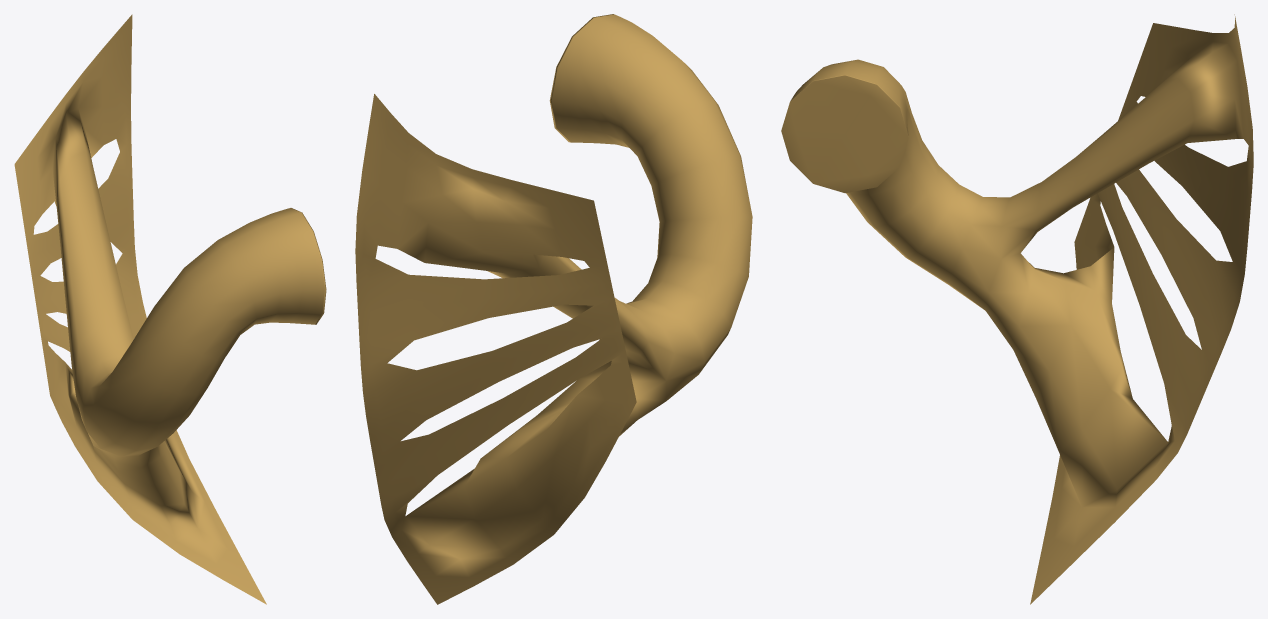
3 renders of one model, left to right at view 1: azimuth 30°, elevation 25°; view 2: azimuth 150°, elevation 25°; view 3: azimuth 270°, elevation 25°, orthographic. The views are drawn at different scales.
Visible parts, largest first — view 1: 左侧股骨头韧带; view 2: 左侧股骨头韧带; view 3: 左侧股骨头韧带.
Boxes of the visible parts, x1,y1,x2,y2 form: 左侧股骨头韧带: [14, 14, 326, 604]; 左侧股骨头韧带: [355, 14, 752, 604]; 左侧股骨头韧带: [781, 14, 1253, 604].
Size of the model in its own units: 0.0202 by 0.048 by 0.036.
